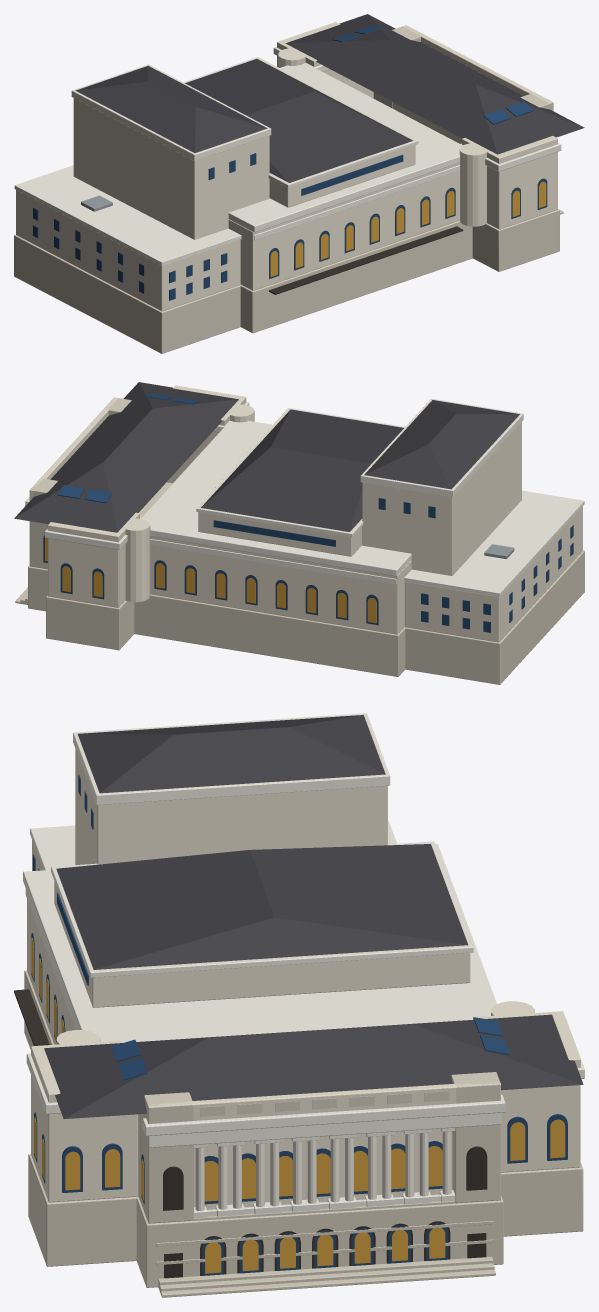
The model's file is war-memorial-opera-house.glb.
3 views of the same model, one above another, from view 1: azimuth 30°, elevation 25°; view 2: azimuth 150°, elevation 25°; view 3: azimuth 270°, elevation 25° (orthographic). The views are drawn at different scales.
Visible parts, largest first — view 1: grp_Toy_sand, grp_Toy_roofd, grp_Toy_stone, grp_Toy_trim, grp_Toy_glass, grp_Toy_mustard_Glow, grp_Toy_ink; view 2: grp_Toy_sand, grp_Toy_roofd, grp_Toy_stone, grp_Toy_trim, grp_Toy_glass, grp_Toy_mustard_Glow; view 3: grp_Toy_roofd, grp_Toy_sand, grp_Toy_trim, grp_Toy_stone, grp_Toy_mustard_Glow, grp_Toy_glass, grp_Toy_ink.
Part boxes in pixels (x1=…): grp_Toy_sand: x1=16, y1=22, x2=557, y2=311; grp_Toy_roofd: x1=75, y1=14, x2=584, y2=182; grp_Toy_stone: x1=14, y1=25, x2=563, y2=353; grp_Toy_trim: x1=14, y1=46, x2=561, y2=265; grp_Toy_glass: x1=33, y1=25, x2=547, y2=300; grp_Toy_mustard_Glow: x1=270, y1=181, x2=546, y2=276; grp_Toy_ink: x1=269, y1=226, x2=463, y2=294; grp_Toy_sand: x1=29, y1=385, x2=582, y2=642; grp_Toy_roofd: x1=14, y1=382, x2=519, y2=532; grp_Toy_stone: x1=15, y1=397, x2=584, y2=684; grp_Toy_trim: x1=25, y1=398, x2=584, y2=596; grp_Toy_glass: x1=43, y1=393, x2=573, y2=632; grp_Toy_mustard_Glow: x1=45, y1=538, x2=376, y2=623; grp_Toy_roofd: x1=44, y1=715, x2=583, y2=1118; grp_Toy_sand: x1=27, y1=714, x2=580, y2=1209; grp_Toy_trim: x1=23, y1=713, x2=584, y2=1218; grp_Toy_stone: x1=24, y1=970, x2=583, y2=1297; grp_Toy_mustard_Glow: x1=31, y1=937, x2=565, y2=1273; grp_Toy_glass: x1=31, y1=774, x2=567, y2=1275; grp_Toy_ink: x1=14, y1=989, x2=487, y2=1278.
Size of the model in its own units: 114 by 44 by 77.69.
